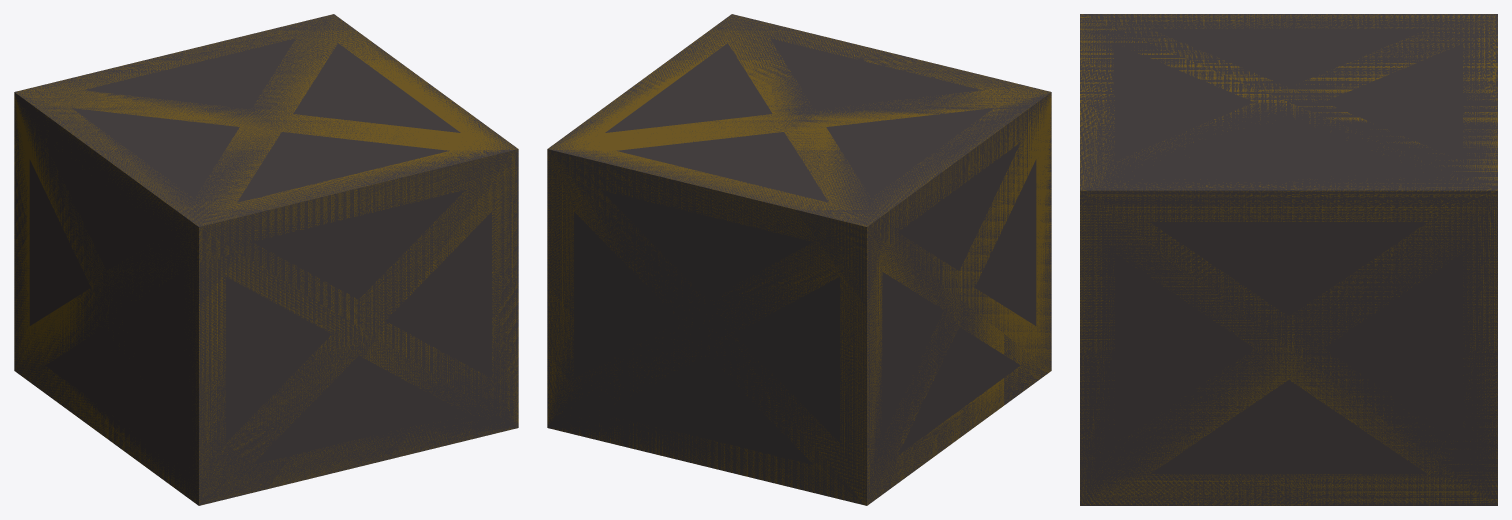
File: obj_crate_9_0.obj
3 renders of one model, left to right at view 1: azimuth 30°, elevation 25°; view 2: azimuth 150°, elevation 25°; view 3: azimuth 270°, elevation 25°, orthographic. The views are drawn at different scales.
Size of the model in its own units: 0.75 by 0.625 by 0.75.
